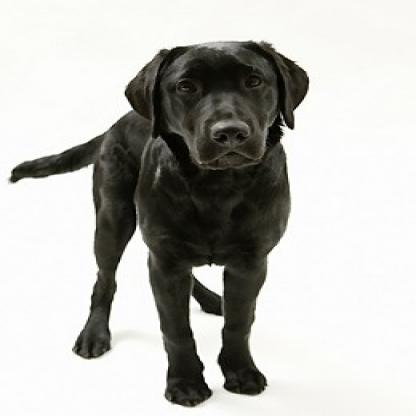dog: (9, 40, 311, 404)
